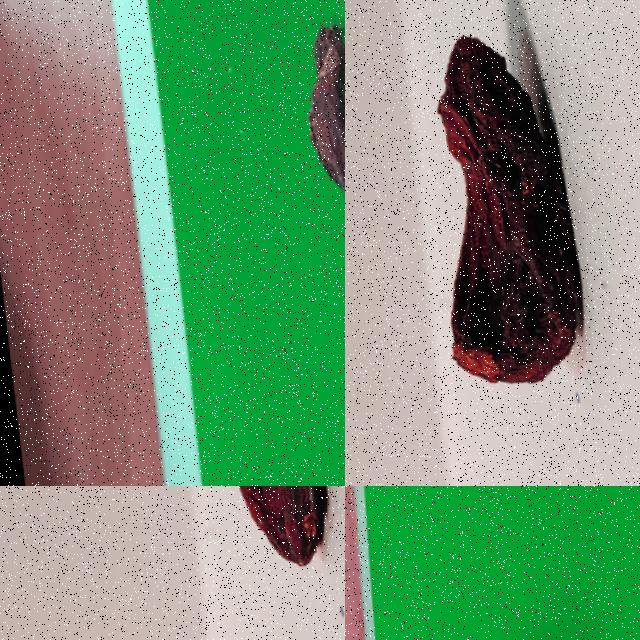Flat_cocoabeans: (384, 0, 612, 425), (150, 486, 344, 639), (243, 0, 344, 280)
